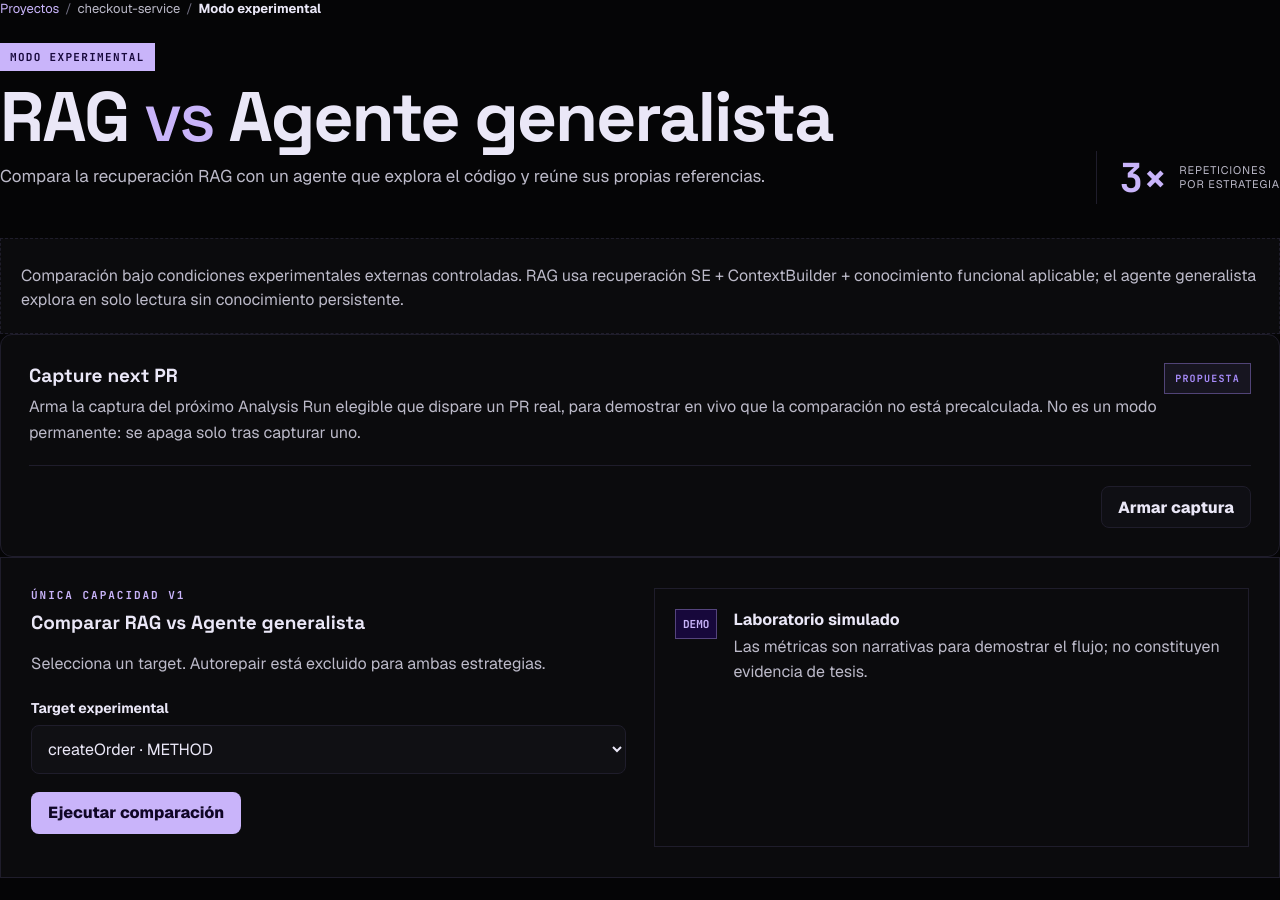
Test case: HU49 (propuesta): cancelar vuelve al estado inicial sin capturar nada
Click the button "Armar captura": click(1176, 507) [1101,486,1251,528]
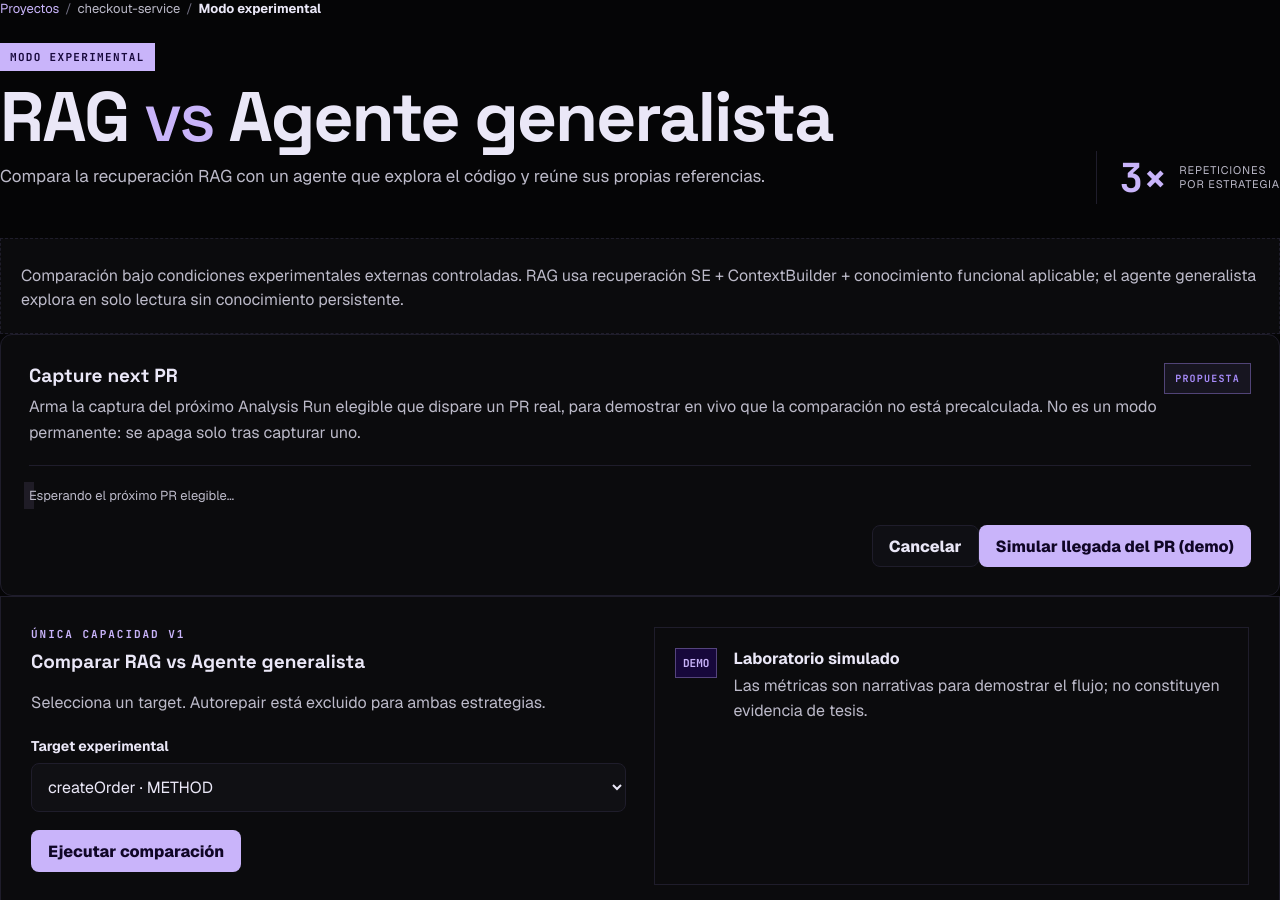
Check: the button "Cancelar" is shown
Click the button "Cancelar": click(925, 546) [872,525,979,567]
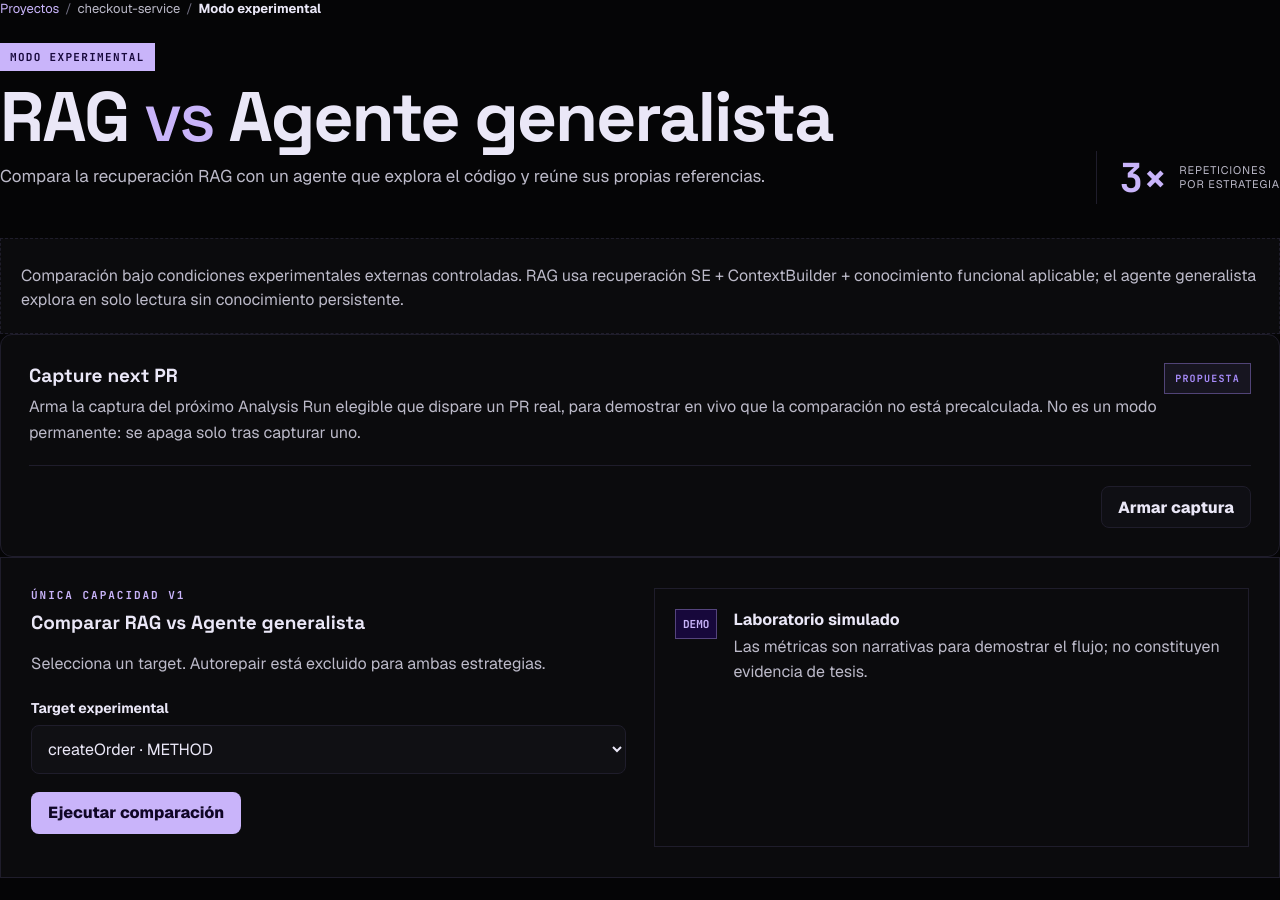
Check: the button "Armar captura" is shown, box [1101,486,1251,528]
